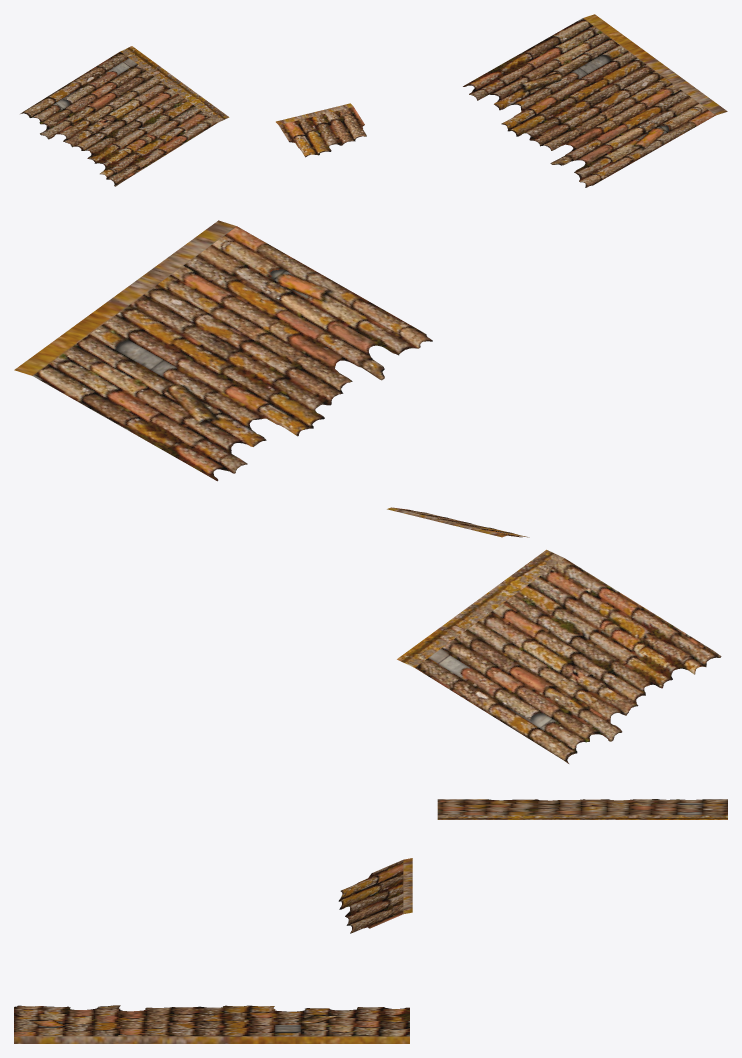
File: hele_mill_roof.dae
The picture shows the model from 3 angles, top to bottom: view 1: azimuth 30°, elevation 25°; view 2: azimuth 150°, elevation 25°; view 3: azimuth 270°, elevation 25°; orthographic projection. The views are drawn at different scales.
Visible parts, largest first — view 1: default03; view 2: default03; view 3: default03.
Part boxes in pixels (box(x1,y1,x2,y2)): default03: box(20, 14, 727, 187); default03: box(14, 220, 721, 763); default03: box(14, 799, 727, 1043).
Bounding box in the file's own units: 13.11 × 1.76 × 11.5.
